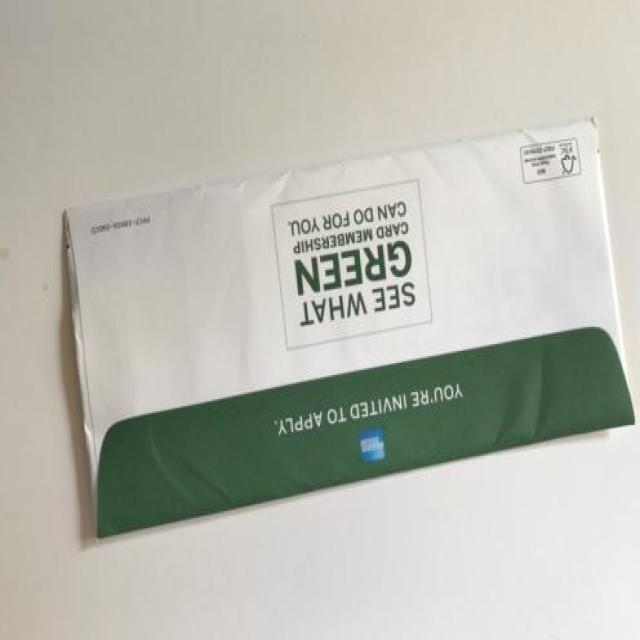kertas: (62, 120, 637, 547)
